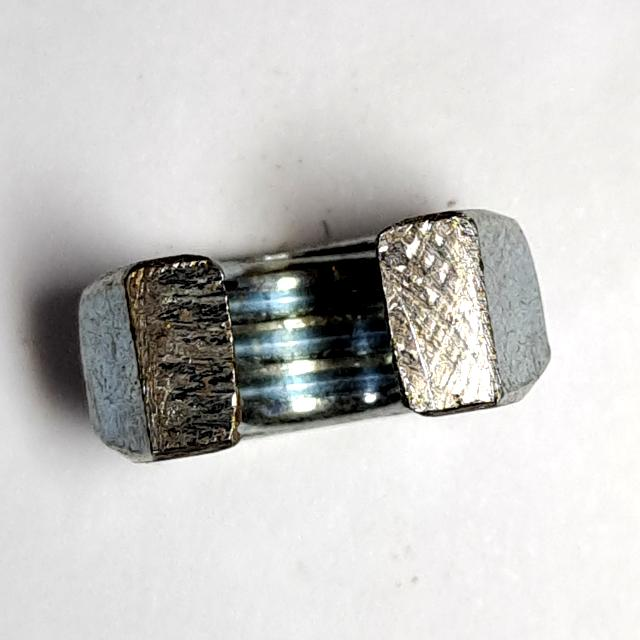Side-Fracture: (70, 198, 561, 475)
